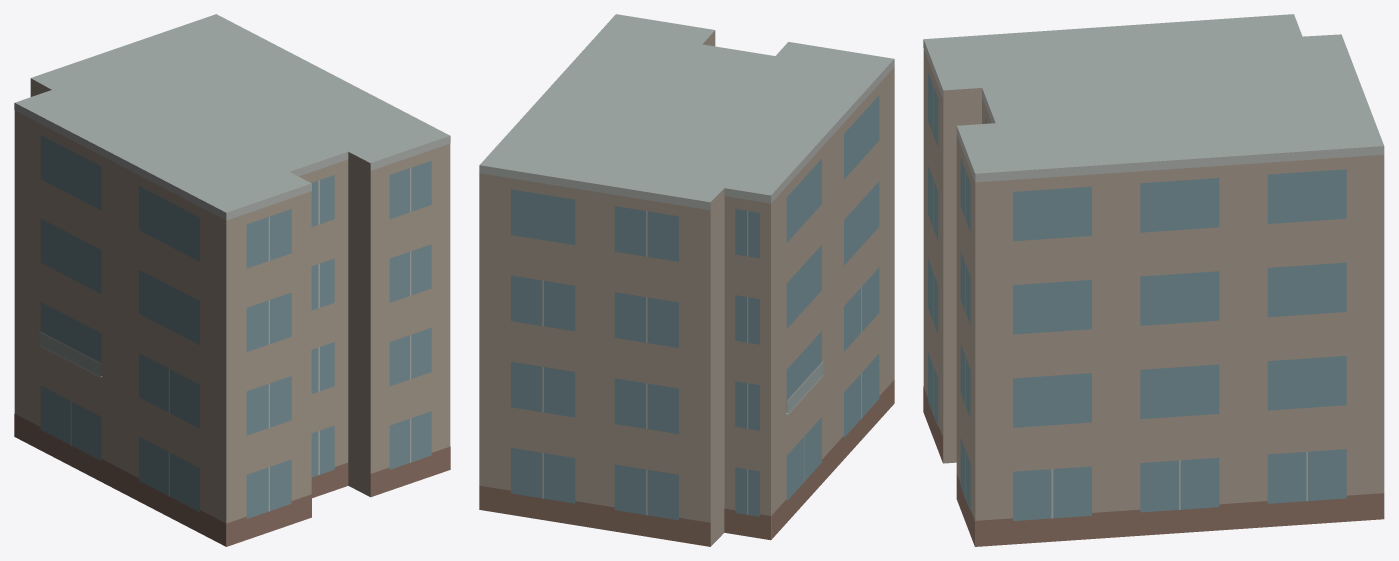
File: survey-upis-32542413.glb
3 views of the same model, side by side, from view 1: azimuth 30°, elevation 25°; view 2: azimuth 150°, elevation 25°; view 3: azimuth 270°, elevation 25° (orthographic). The views are drawn at different scales.
Parts seen in each view (by area): view 1: survey-upis-32542413.tmp; view 2: survey-upis-32542413.tmp; view 3: survey-upis-32542413.tmp.
Boxes of the visible parts, <box> form: survey-upis-32542413.tmp: <box>14,14,450,546</box>; survey-upis-32542413.tmp: <box>479,14,894,546</box>; survey-upis-32542413.tmp: <box>923,14,1384,546</box>.
Bounding box in the file's own units: 9.65 × 10.5 × 11.76.
